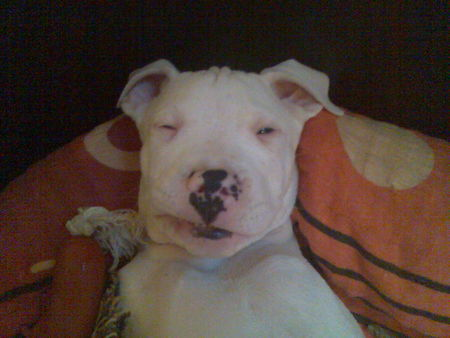dogo_argentino: (114, 57, 364, 338)
